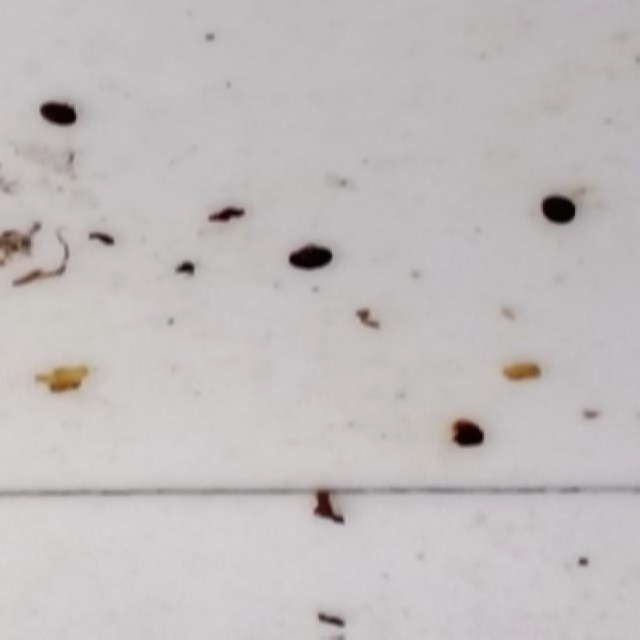varroa: (285, 247, 339, 276), (540, 194, 578, 227), (40, 104, 82, 127)
